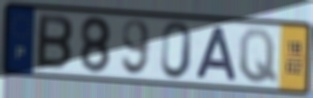0: (160, 20, 194, 82)
8: (78, 15, 112, 76)
9: (120, 19, 152, 78)
A: (193, 24, 240, 83)
B: (34, 11, 75, 73)
Q: (238, 26, 279, 86)
